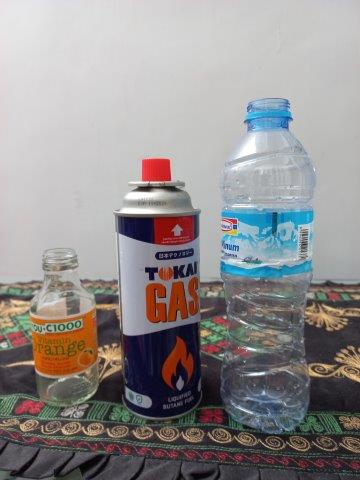botolkaca: (29, 246, 99, 406)
botolplastik: (220, 98, 317, 433)
kaleng: (115, 158, 203, 421)
